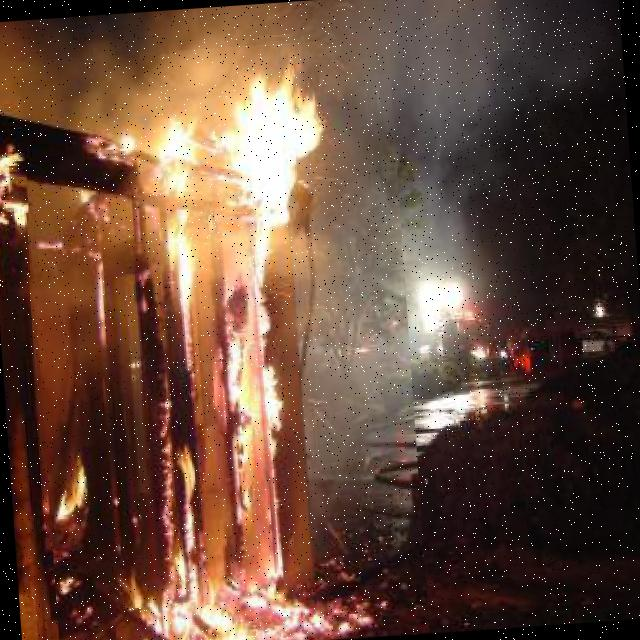fire: (18, 36, 429, 640)
